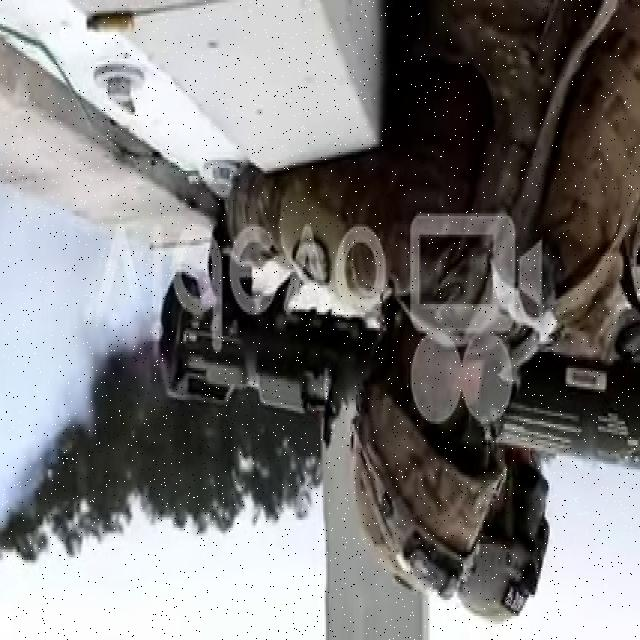bazooka: (160, 274, 640, 489)
